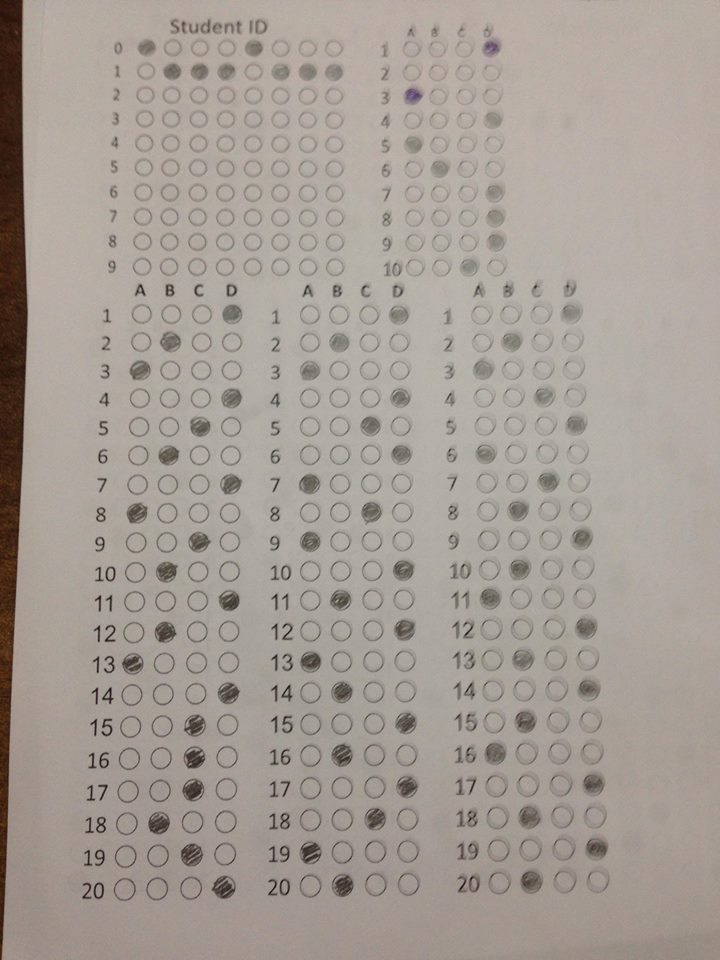not-c: (114, 810, 138, 837), (149, 778, 173, 804), (150, 682, 177, 705), (478, 680, 505, 703), (213, 842, 237, 867), (548, 773, 572, 798), (485, 839, 510, 863), (296, 713, 322, 736), (329, 809, 355, 832), (541, 619, 568, 641), (568, 558, 596, 579), (215, 778, 239, 802), (145, 878, 169, 902), (394, 681, 418, 705), (519, 838, 543, 862), (553, 870, 577, 894), (181, 809, 204, 834), (298, 561, 323, 584), (362, 711, 385, 736), (298, 778, 323, 801), (485, 806, 510, 829), (297, 746, 323, 768), (332, 775, 354, 801), (329, 840, 355, 862), (295, 590, 322, 611), (215, 809, 238, 833), (147, 844, 170, 868), (113, 878, 136, 902), (361, 559, 385, 582), (360, 589, 384, 612), (481, 711, 505, 734), (215, 715, 240, 737), (365, 774, 387, 799), (300, 873, 322, 898), (479, 649, 504, 671), (545, 680, 570, 702), (547, 711, 569, 736), (583, 806, 608, 828), (512, 681, 538, 702), (546, 743, 572, 764), (156, 474, 179, 497), (155, 531, 178, 554), (362, 619, 385, 642), (392, 650, 415, 673), (364, 841, 387, 864), (580, 711, 603, 734), (579, 742, 602, 765), (155, 591, 177, 615), (217, 619, 239, 643), (217, 653, 241, 675), (121, 683, 143, 707), (118, 749, 142, 771), (330, 561, 354, 583), (362, 875, 386, 897), (472, 387, 496, 409), (485, 775, 509, 797), (552, 838, 576, 860), (489, 871, 511, 895), (588, 871, 610, 895), (396, 744, 417, 769), (300, 808, 321, 833), (575, 651, 600, 672), (503, 472, 529, 492), (187, 560, 209, 583), (218, 561, 241, 583), (124, 591, 147, 613), (122, 622, 145, 644), (186, 683, 209, 705), (116, 781, 139, 803), (115, 846, 138, 868), (180, 876, 202, 899), (298, 387, 321, 409), (298, 683, 321, 705), (364, 745, 386, 768), (396, 809, 418, 832), (125, 474, 149, 495), (393, 590, 417, 611), (328, 651, 352, 672), (363, 681, 384, 705), (541, 588, 565, 609), (513, 744, 537, 765), (537, 502, 562, 522), (217, 747, 239, 769), (388, 359, 410, 381), (299, 502, 321, 524), (392, 502, 414, 524), (393, 532, 415, 554), (550, 806, 572, 828), (151, 715, 174, 736), (151, 747, 172, 770), (298, 332, 321, 353), (358, 362, 381, 383), (360, 387, 383, 408), (300, 415, 321, 438), (392, 472, 413, 495), (362, 651, 385, 672), (397, 843, 420, 864), (575, 588, 598, 609), (479, 620, 502, 641), (545, 652, 568, 673), (218, 533, 242, 553), (298, 621, 322, 641), (399, 872, 419, 896), (470, 333, 495, 352), (507, 590, 532, 609), (191, 304, 213, 325), (160, 359, 182, 380), (221, 416, 242, 438), (220, 445, 242, 466), (124, 562, 146, 583), (120, 717, 142, 738), (330, 387, 351, 409), (389, 417, 411, 438), (330, 473, 352, 494), (567, 471, 588, 493), (570, 501, 592, 522), (511, 620, 533, 641), (159, 389, 182, 409), (189, 445, 212, 465), (156, 503, 179, 523), (328, 417, 351, 437), (469, 305, 492, 325), (532, 360, 555, 380), (476, 530, 499, 550), (478, 559, 501, 579), (518, 775, 538, 798), (186, 592, 210, 611), (152, 654, 176, 673), (324, 232, 345, 253), (330, 531, 351, 552), (330, 622, 351, 643), (535, 417, 556, 438), (325, 38, 347, 58), (158, 417, 180, 437), (220, 504, 242, 524), (187, 653, 207, 675), (362, 475, 382, 497), (362, 530, 382, 552), (529, 305, 551, 325), (563, 359, 585, 379), (534, 445, 556, 465), (541, 560, 563, 580), (128, 389, 151, 408), (185, 623, 208, 642), (358, 333, 381, 352), (362, 443, 381, 466), (477, 502, 500, 521), (504, 445, 528, 463), (217, 38, 237, 59), (188, 158, 209, 178), (214, 183, 235, 203), (159, 207, 179, 228), (132, 232, 153, 252), (160, 304, 181, 324), (131, 332, 152, 352), (191, 332, 212, 352), (190, 361, 211, 381), (222, 361, 243, 381), (129, 417, 150, 437), (188, 502, 208, 523), (360, 305, 381, 325), (389, 333, 410, 353), (329, 362, 350, 382), (330, 503, 351, 523), (332, 714, 352, 735), (455, 86, 476, 106), (531, 332, 552, 352), (564, 387, 585, 407), (191, 389, 213, 408), (126, 446, 148, 465), (329, 306, 351, 325), (403, 159, 425, 178), (458, 209, 480, 228), (562, 332, 584, 351), (567, 445, 589, 464), (509, 529, 528, 551), (297, 41, 320, 59), (431, 259, 454, 277), (456, 235, 480, 252), (190, 38, 210, 58), (215, 158, 235, 178), (242, 159, 262, 179), (188, 208, 208, 228), (132, 305, 152, 325), (189, 474, 209, 494), (331, 445, 351, 465), (505, 415, 525, 435), (163, 38, 184, 57), (161, 108, 182, 127), (270, 183, 291, 202), (241, 209, 262, 228), (299, 447, 320, 466), (502, 361, 523, 380), (541, 529, 560, 550), (242, 185, 264, 203), (324, 185, 346, 203), (297, 235, 319, 253), (299, 305, 321, 323), (270, 39, 290, 58), (189, 86, 208, 106), (188, 110, 208, 129), (161, 158, 180, 178), (216, 208, 236, 227), (160, 233, 179, 253), (188, 233, 207, 253), (215, 234, 235, 253), (159, 259, 179, 278), (188, 258, 207, 278), (216, 258, 235, 278), (299, 258, 319, 277), (127, 533, 147, 552), (402, 39, 422, 58), (430, 135, 449, 155), (458, 136, 477, 156), (482, 135, 502, 154), (429, 208, 449, 227), (501, 306, 521, 325), (298, 184, 319, 202), (324, 209, 345, 227), (242, 234, 263, 252), (428, 88, 449, 106), (482, 160, 504, 177), (455, 113, 478, 129), (161, 183, 180, 202), (455, 39, 474, 58), (505, 388, 524, 407), (475, 416, 494, 435), (217, 87, 237, 105), (243, 87, 263, 105), (135, 110, 155, 128), (271, 135, 291, 153), (270, 160, 290, 178), (132, 208, 152, 226), (132, 259, 152, 277), (482, 88, 502, 106), (430, 111, 448, 131), (402, 185, 422, 203), (458, 186, 479, 203), (404, 210, 425, 227), (404, 234, 425, 251), (137, 86, 155, 105), (272, 85, 290, 104), (271, 112, 290, 130), (325, 112, 343, 131), (190, 133, 208, 152), (243, 134, 261, 153), (325, 161, 344, 179), (134, 182, 153, 200), (243, 259, 262, 277), (270, 260, 289, 278), (428, 40, 447, 58), (429, 64, 448, 82), (138, 61, 155, 81), (133, 134, 153, 151), (325, 135, 342, 155), (403, 111, 423, 128), (297, 136, 318, 152), (404, 259, 425, 275), (134, 159, 152, 177), (272, 209, 290, 227), (223, 334, 241, 352), (488, 257, 506, 275), (298, 87, 317, 104), (243, 111, 262, 128), (161, 135, 180, 152), (299, 160, 318, 177), (326, 259, 345, 276), (455, 64, 474, 81), (216, 136, 236, 152), (401, 66, 421, 82), (475, 476, 495, 492), (482, 66, 503, 81), (325, 88, 343, 105), (217, 111, 235, 128), (190, 184, 207, 202), (298, 210, 316, 227), (271, 234, 288, 252), (431, 235, 450, 251), (162, 87, 182, 102), (457, 161, 475, 177), (431, 186, 449, 202), (297, 113, 315, 128), (246, 65, 263, 80)
taken-c: (573, 615, 599, 642), (582, 836, 608, 862), (210, 875, 237, 900), (512, 708, 537, 735), (518, 867, 543, 894), (182, 714, 208, 739), (330, 872, 355, 898), (329, 743, 355, 768), (395, 774, 419, 801), (153, 620, 178, 645), (299, 841, 324, 866), (576, 677, 601, 702), (216, 589, 242, 613), (394, 710, 418, 736), (186, 530, 211, 554), (215, 681, 240, 705), (182, 746, 207, 770), (180, 778, 204, 803), (363, 807, 388, 831), (535, 470, 559, 495), (569, 526, 594, 550), (509, 557, 533, 582), (511, 648, 535, 673), (483, 742, 508, 766), (581, 772, 605, 797), (517, 804, 541, 829), (219, 472, 243, 496), (155, 560, 179, 584), (121, 652, 145, 676), (299, 650, 323, 674), (298, 473, 322, 497), (472, 357, 496, 381), (533, 384, 557, 408), (564, 413, 588, 437), (331, 680, 354, 705), (559, 302, 584, 325), (189, 414, 212, 438), (157, 444, 180, 468), (148, 812, 171, 836), (180, 843, 203, 867), (393, 617, 416, 641), (473, 443, 497, 466), (479, 587, 503, 610), (135, 37, 160, 59), (160, 330, 183, 353), (390, 443, 413, 466), (360, 415, 383, 438), (485, 207, 508, 230), (392, 558, 414, 582), (360, 501, 382, 525), (129, 359, 151, 382), (220, 387, 243, 409), (330, 588, 352, 611), (300, 530, 322, 553), (506, 500, 529, 522), (243, 37, 265, 59), (221, 304, 243, 326), (389, 387, 411, 409), (299, 359, 321, 381), (328, 332, 350, 354), (296, 62, 319, 83), (126, 502, 147, 525), (500, 332, 523, 353), (162, 60, 183, 82), (189, 62, 211, 83), (388, 305, 410, 326), (458, 256, 478, 279), (216, 62, 237, 83), (324, 62, 345, 83), (403, 133, 424, 154), (269, 62, 291, 82), (482, 110, 504, 130), (484, 184, 505, 204), (429, 159, 450, 179), (481, 38, 501, 59), (486, 234, 506, 253), (403, 87, 424, 105)
